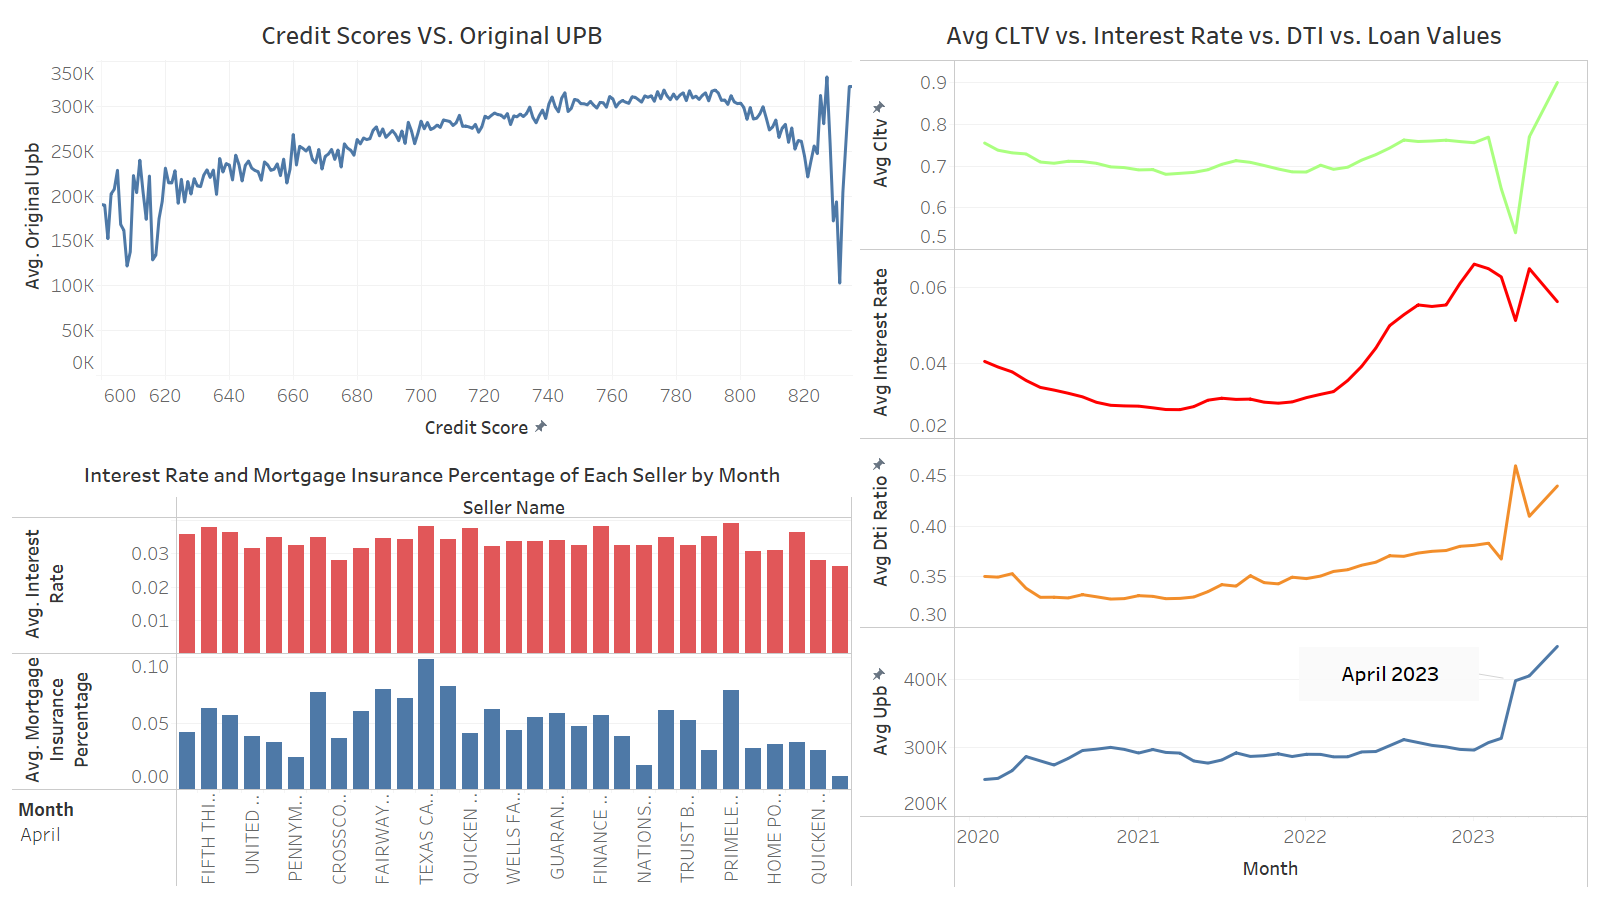

This screenshot's page, from the dashboard's own definition file:
{"tool":"tableau","page":{"name":"Dashboard 2","canvas":[1600,900],"ordinal":1},"visuals":[{"type":"worksheet","title":"Sheet 1","mark":"Line","rows":["ORIGINAL_UPB"],"cols":["CREDIT_SCORE"],"box":[8,8,848,442]},{"type":"worksheet","title":"Sheet 5","mark":"Line","rows":["ORIGINAL_CLTV","ORIGINAL_INTEREST_RATE","ORIGINAL_DTI_RATIO","ORIGINAL_UPB"],"cols":["FIRST_PAYMENT_DATE"],"box":[856,8,736,884]},{"type":"worksheet","title":"Sheet 6","mark":"Bar","rows":["ORIGINAL_INTEREST_RATE","MORTGAGE_INSURANCE_PERCENTAGE"],"cols":["SELLER_NAME"],"box":[8,450,848,442]},{"type":"filter","title":"Sheet 6","param":"[federated.180ezgo0rtgi0k1g9oebm1ry9h3i].[mn:FIRST_PAYMENT_DATE:ok]","box":[18,795,146,96]}]}

Visuals, with their boxes in screenshot pixels (x1, y1, x2, y2), scaled from the page's 1600x900 canvas onto the 1600x900 screenshot:
"Sheet 1" worksheet (Line marks): <bbox>8, 8, 856, 450</bbox>
"Sheet 5" worksheet (Line marks): <bbox>856, 8, 1592, 892</bbox>
"Sheet 6" worksheet (Bar marks): <bbox>8, 450, 856, 892</bbox>
"Sheet 6" filter: <bbox>18, 795, 164, 891</bbox>
